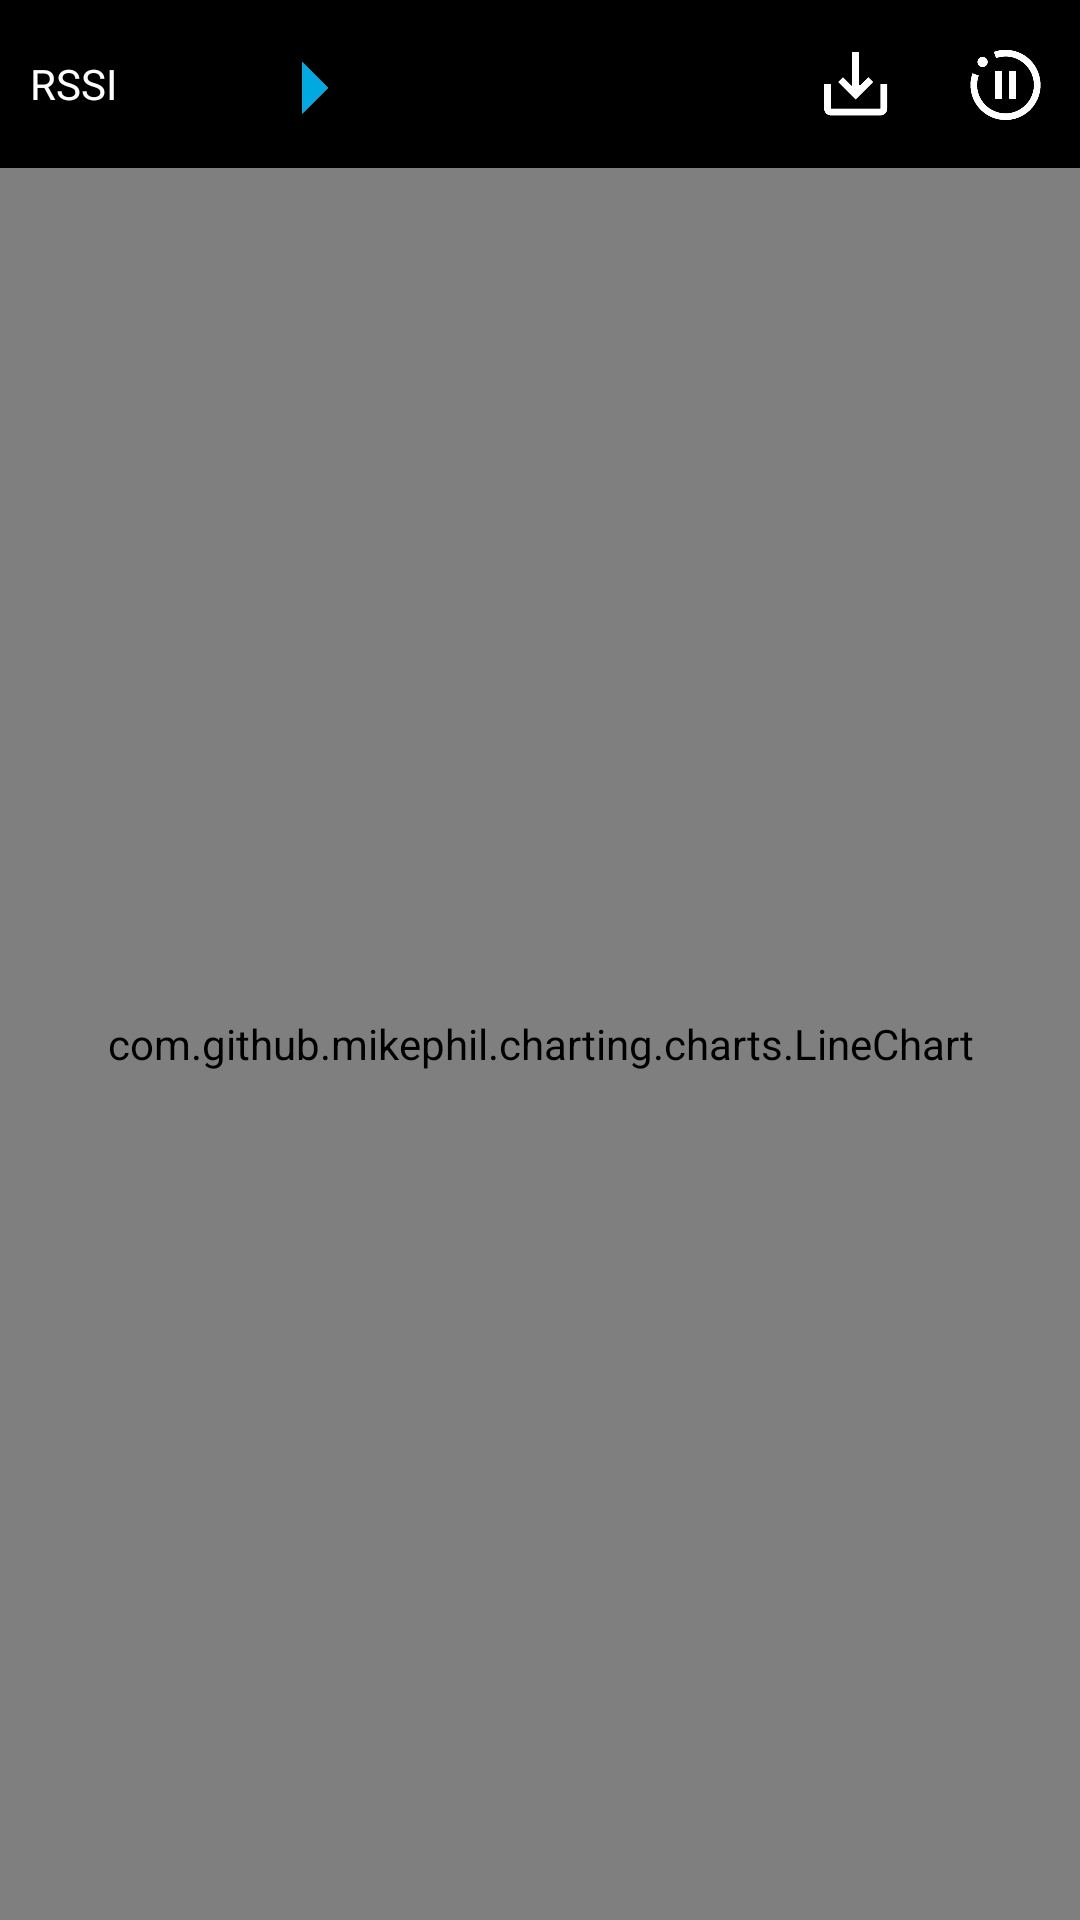

Screen size 1080×1920. Icon name, then its box in pixels as (x1, y1, x2, y2):
arrow right: (302, 62, 328, 114)
paused: (970, 50, 1041, 120)
save: (824, 52, 888, 116)
